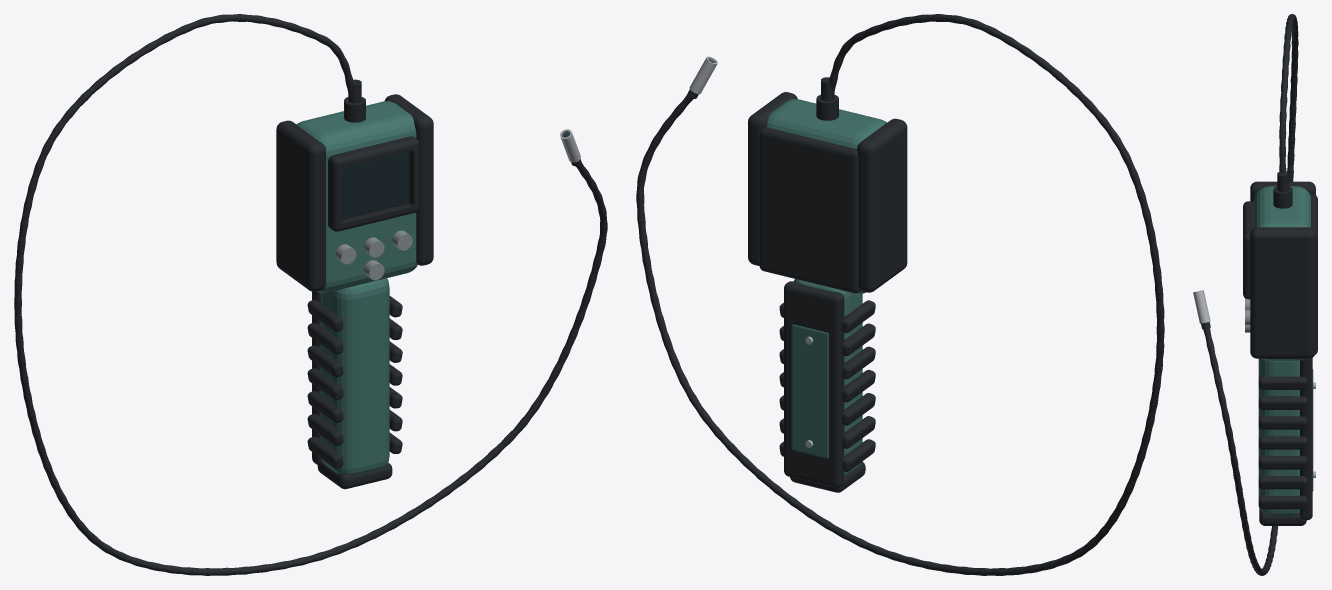
File: A-NEW-20261026-BORESCOPE-001_LOD0_R2.fbx
3 renders of one model, left to right at view 1: azimuth 30°, elevation 25°; view 2: azimuth 150°, elevation 25°; view 3: azimuth 270°, elevation 25°, orthographic. The views are drawn at different scales.
Parts seen in each view (by area): view 1: continuous ribbed probe cable, closed grip core, closed screen housing, side protective bumper, display recessed bezel, inactive display panel, side protective bumper.001, closed lower grip cap; view 2: rear closed cover, continuous ribbed probe cable, side protective bumper, grip rear bumper, closed rear battery cover, closed screen housing, side protective bumper.001, closed grip core; view 3: side protective bumper.001, continuous ribbed probe cable, closed grip core, closed screen housing, grip rear bumper, display recessed bezel, diagonal side grip segment.005, diagonal side grip segment.007, diagonal side grip segment.009, diagonal side grip segment.011, diagonal side grip segment.003, diagonal side grip segment.001 (+8 smaller).
Boxes of the visible parts, x1,y1,x2,y2 form: continuous ribbed probe cable: (14,14,607,575); closed grip core: (320,278,389,474); closed screen housing: (296,101,417,293); side protective bumper: (276,120,325,291); display recessed bezel: (328,136,419,231); inactive display panel: (342,151,409,219); side protective bumper.001: (384,94,433,265); closed lower grip cap: (317,460,392,489); rear closed cover: (759,127,860,293); continuous ribbed probe cable: (636,14,1164,575); side protective bumper: (857,118,907,292); grip rear bumper: (784,281,844,487); closed rear battery cover: (791,324,828,458); closed screen housing: (766,99,886,293); side protective bumper.001: (748,92,797,265); closed grip core: (793,279,862,476); side protective bumper.001: (1250,227,1315,358); continuous ribbed probe cable: (1203,14,1298,575); closed grip core: (1258,358,1299,515); closed screen housing: (1254,186,1310,360); grip rear bumper: (1300,358,1312,520); display recessed bezel: (1243,201,1253,299); diagonal side grip segment.005: (1258,456,1307,469); diagonal side grip segment.007: (1258,436,1307,449); diagonal side grip segment.009: (1258,416,1307,429); diagonal side grip segment.011: (1258,396,1307,409); diagonal side grip segment.003: (1258,476,1307,489); diagonal side grip segment.001: (1258,496,1307,509).
Bounding box in the file's own units: 43.3 × 41.81 × 9.67.
